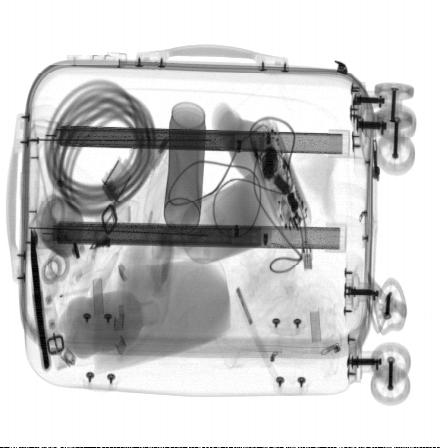Pliers: (30, 224, 50, 371)
